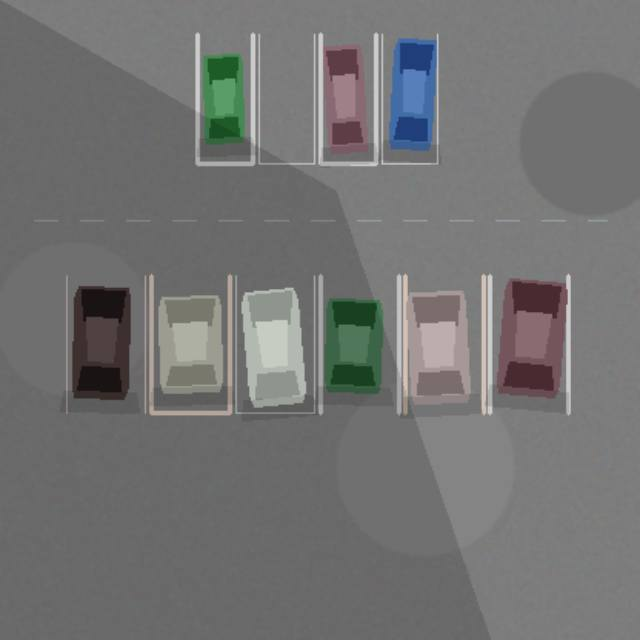space-empty: (258, 34, 314, 163)
space-occupied: (66, 275, 145, 412), (235, 275, 314, 412), (489, 275, 568, 412), (151, 275, 229, 412), (320, 275, 398, 412), (405, 275, 483, 412), (197, 34, 252, 163), (320, 34, 375, 163), (382, 34, 437, 163)
